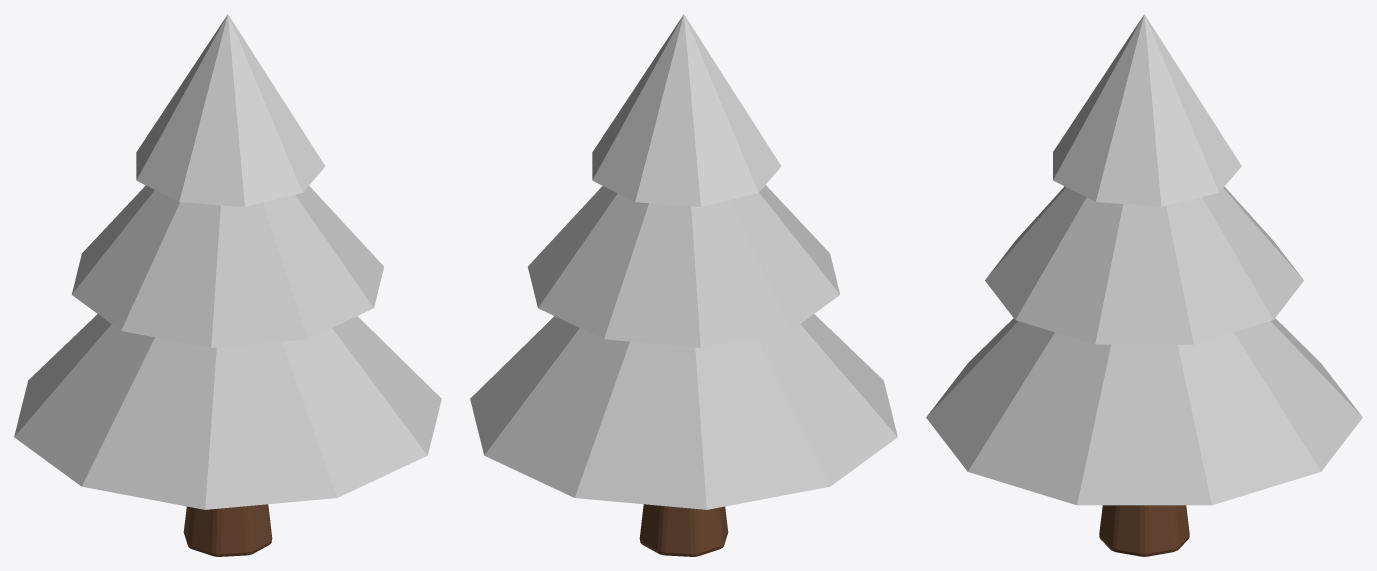
The model's file is tree_cone.glb.
3 renders of one model, left to right at view 1: azimuth 30°, elevation 25°; view 2: azimuth 150°, elevation 25°; view 3: azimuth 270°, elevation 25°, orthographic.
Parts seen in each view (by area): view 1: tree_cone; view 2: tree_cone; view 3: tree_cone.
Part boxes in pixels (x1,y1,x2,y2): tree_cone: (14,14,441,556); tree_cone: (470,14,897,556); tree_cone: (926,14,1362,556).
Size of the model in its own units: 2.47 by 3.45 by 2.6.
